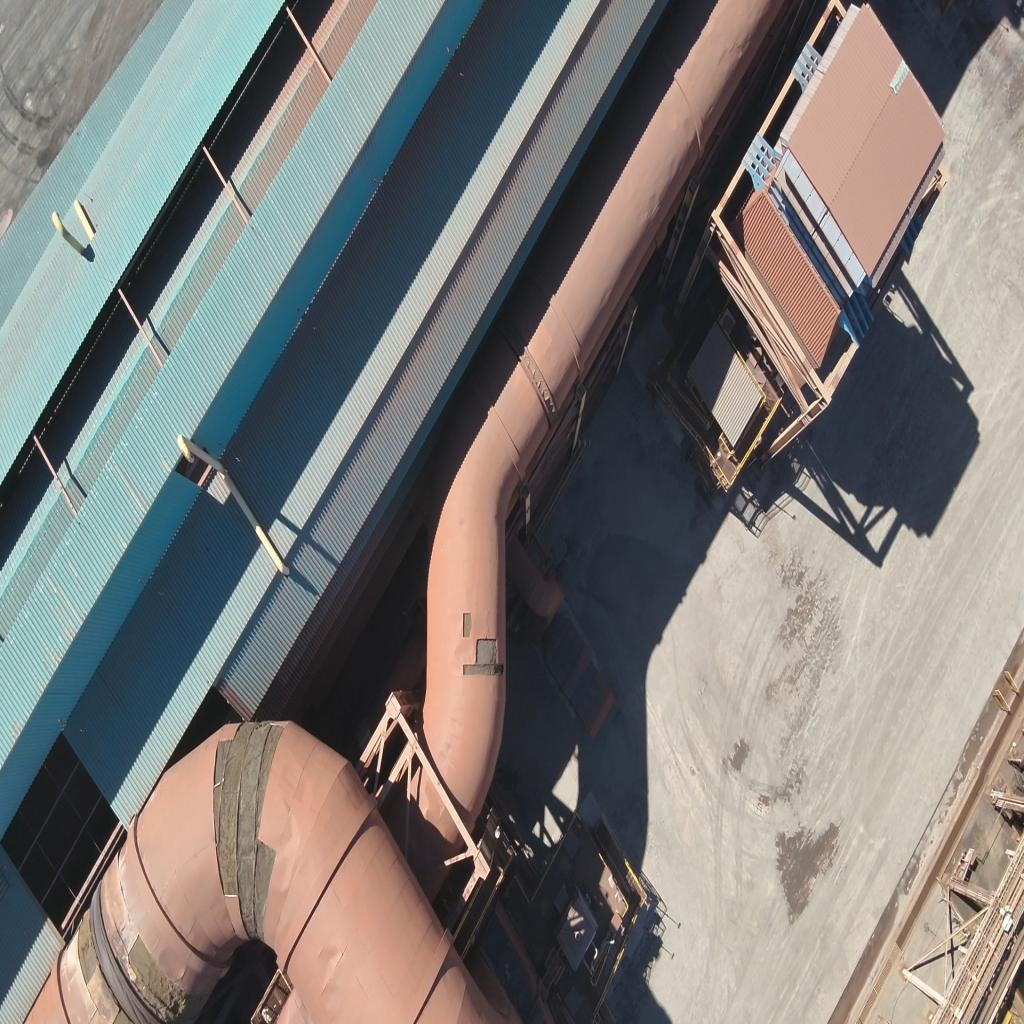Failures: (207, 732, 288, 943), (125, 937, 191, 1018), (73, 909, 102, 978), (465, 637, 502, 676), (462, 611, 476, 648)
